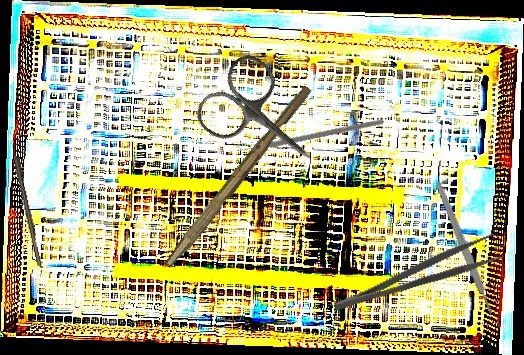Chopper: (230, 55, 386, 210)
Dressing Forceps: (327, 231, 504, 316)
Hook Surgical: (9, 138, 43, 267)
Iris Scissors: (189, 48, 338, 193)
Scalpel Handle: (163, 81, 314, 274), (434, 181, 495, 315)
